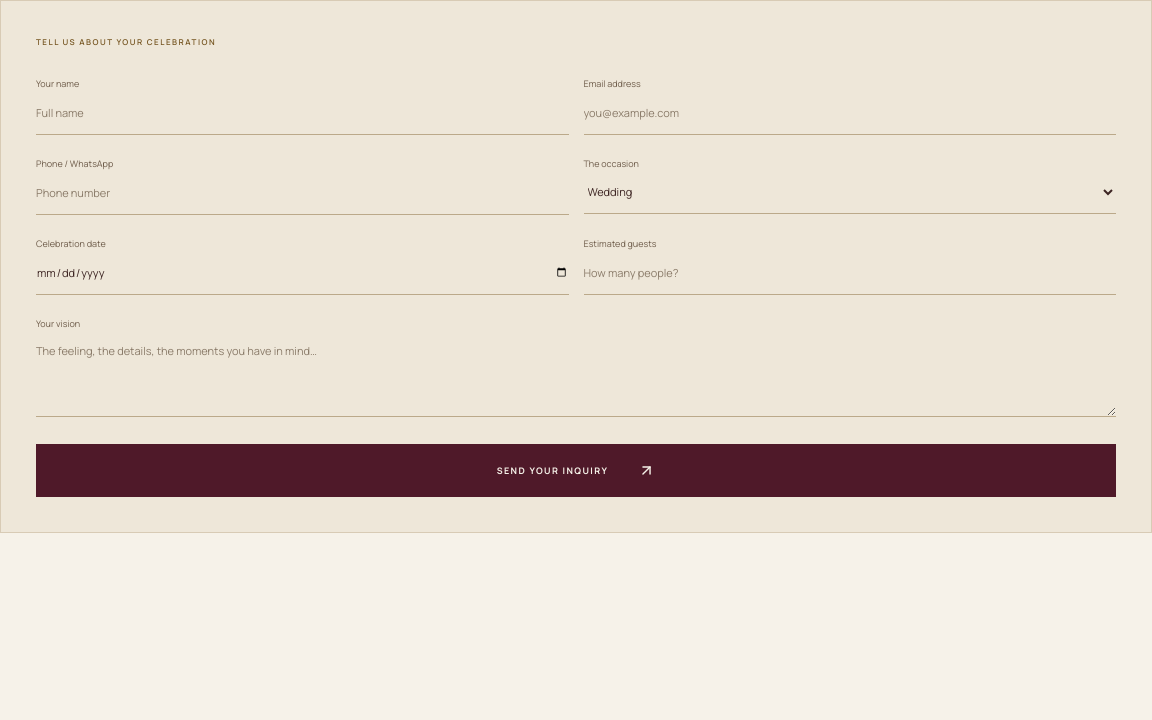
Test: does not show false success for {"ok":false,"success":false}
Type "Test Visitor" into the field labelled "Your name" at (302, 112), box [36, 90, 568, 135]
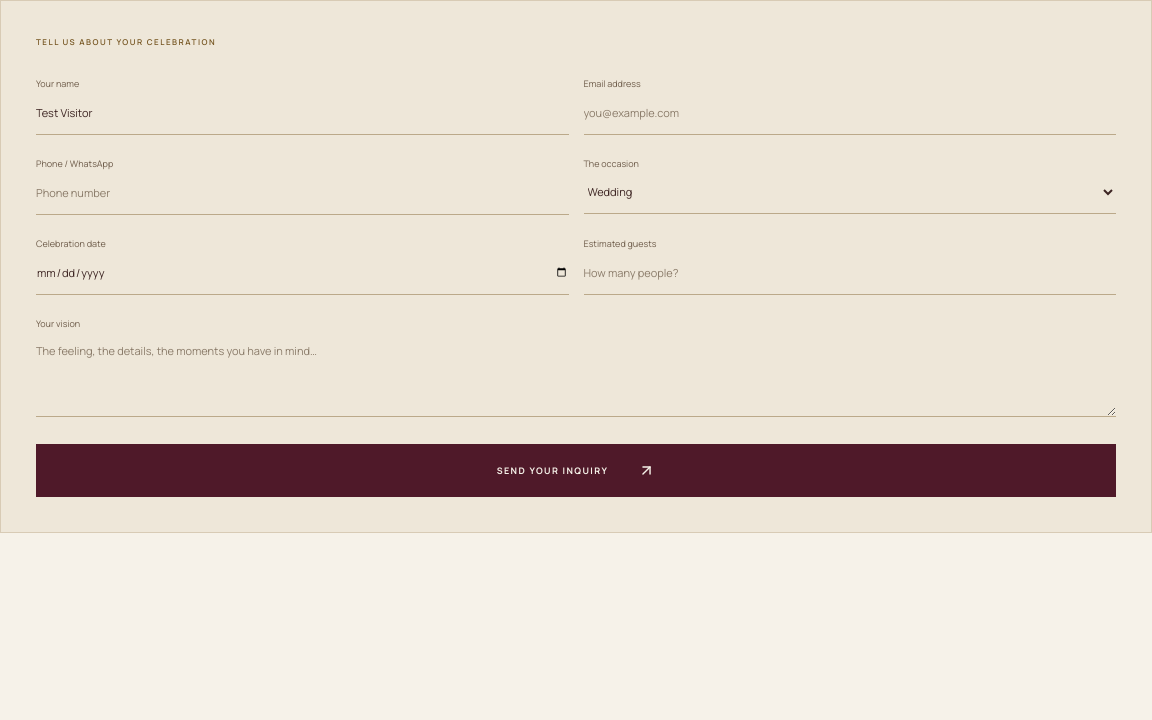
Type "visitor@example.com" into the field labelled "Email address" at (850, 112), box [584, 90, 1116, 135]
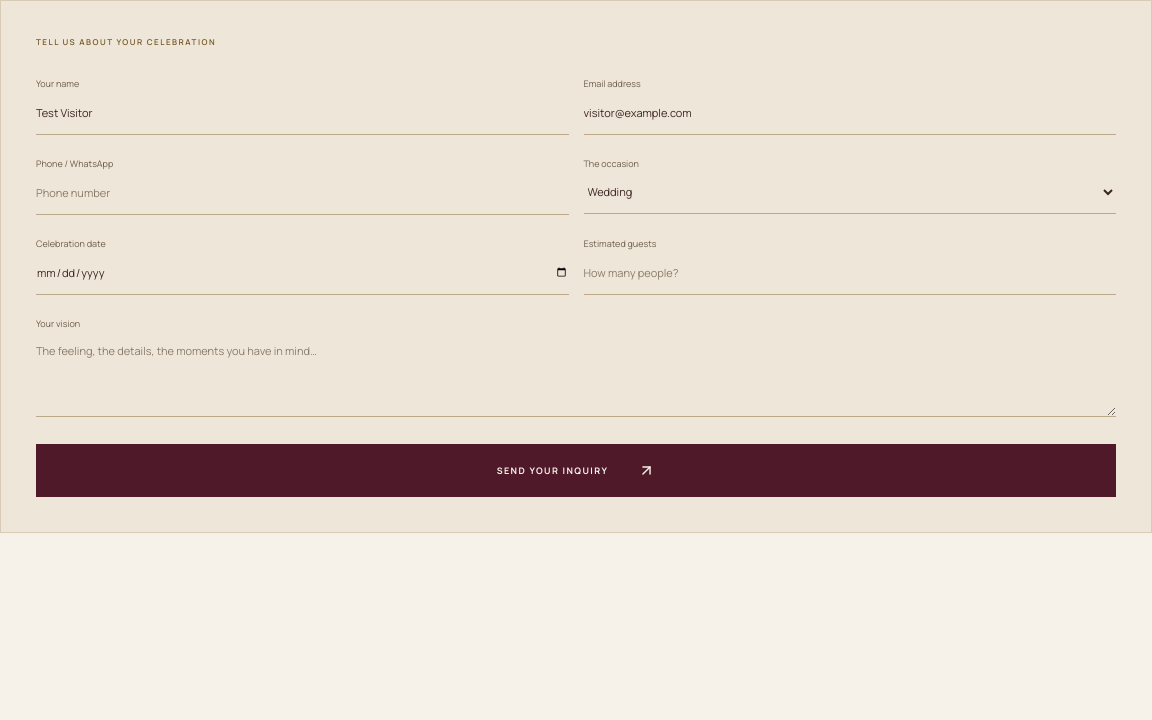
Type "Test celebration" into the text box labelled "Your vision" at (576, 374), box [36, 330, 1116, 417]
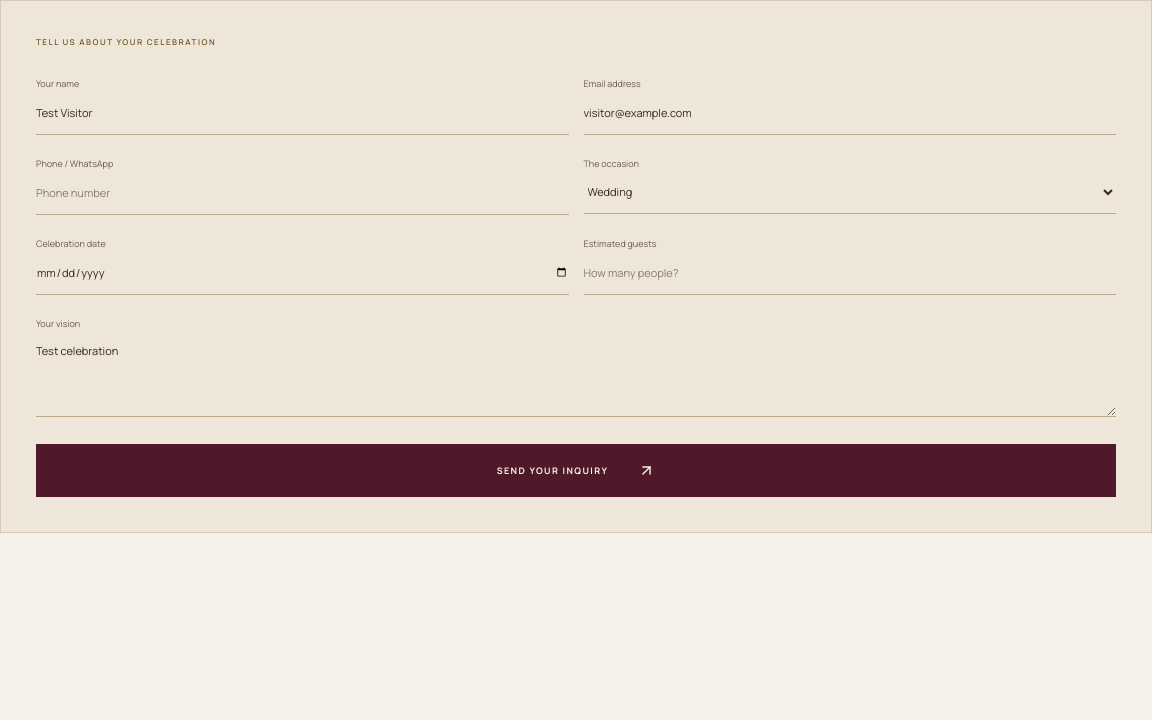
Submit the form named "Send your inquiry"
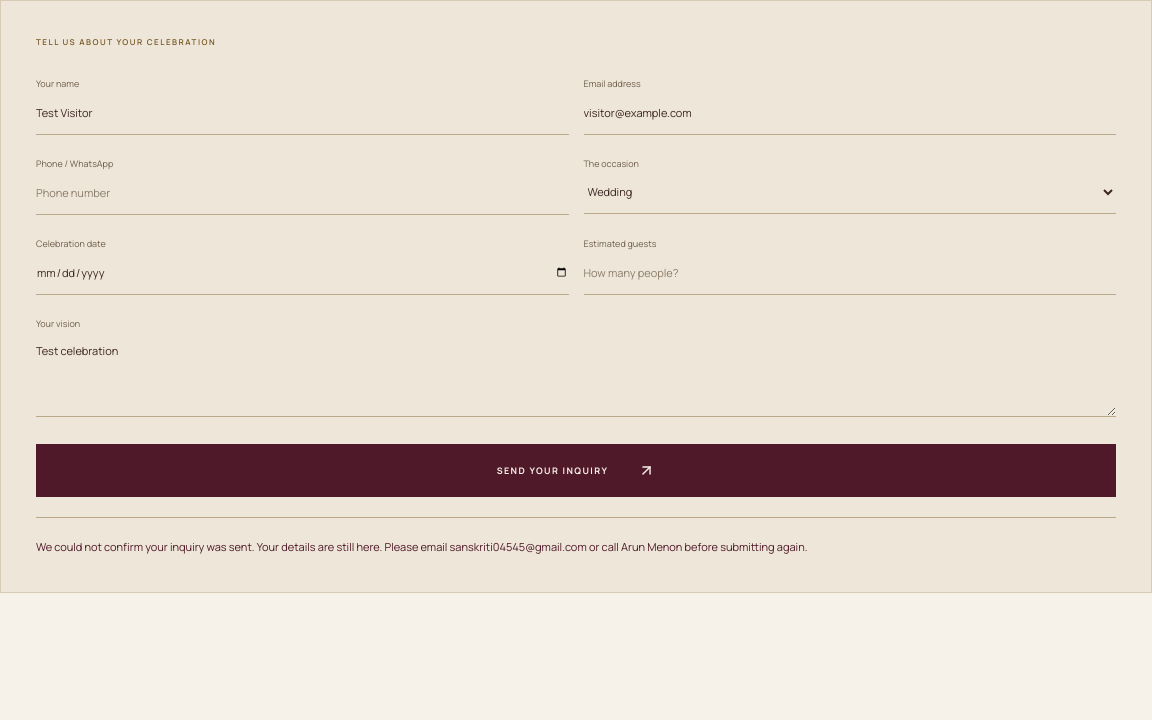
Expected: the message shows "could not confirm", [36, 539, 808, 554]
